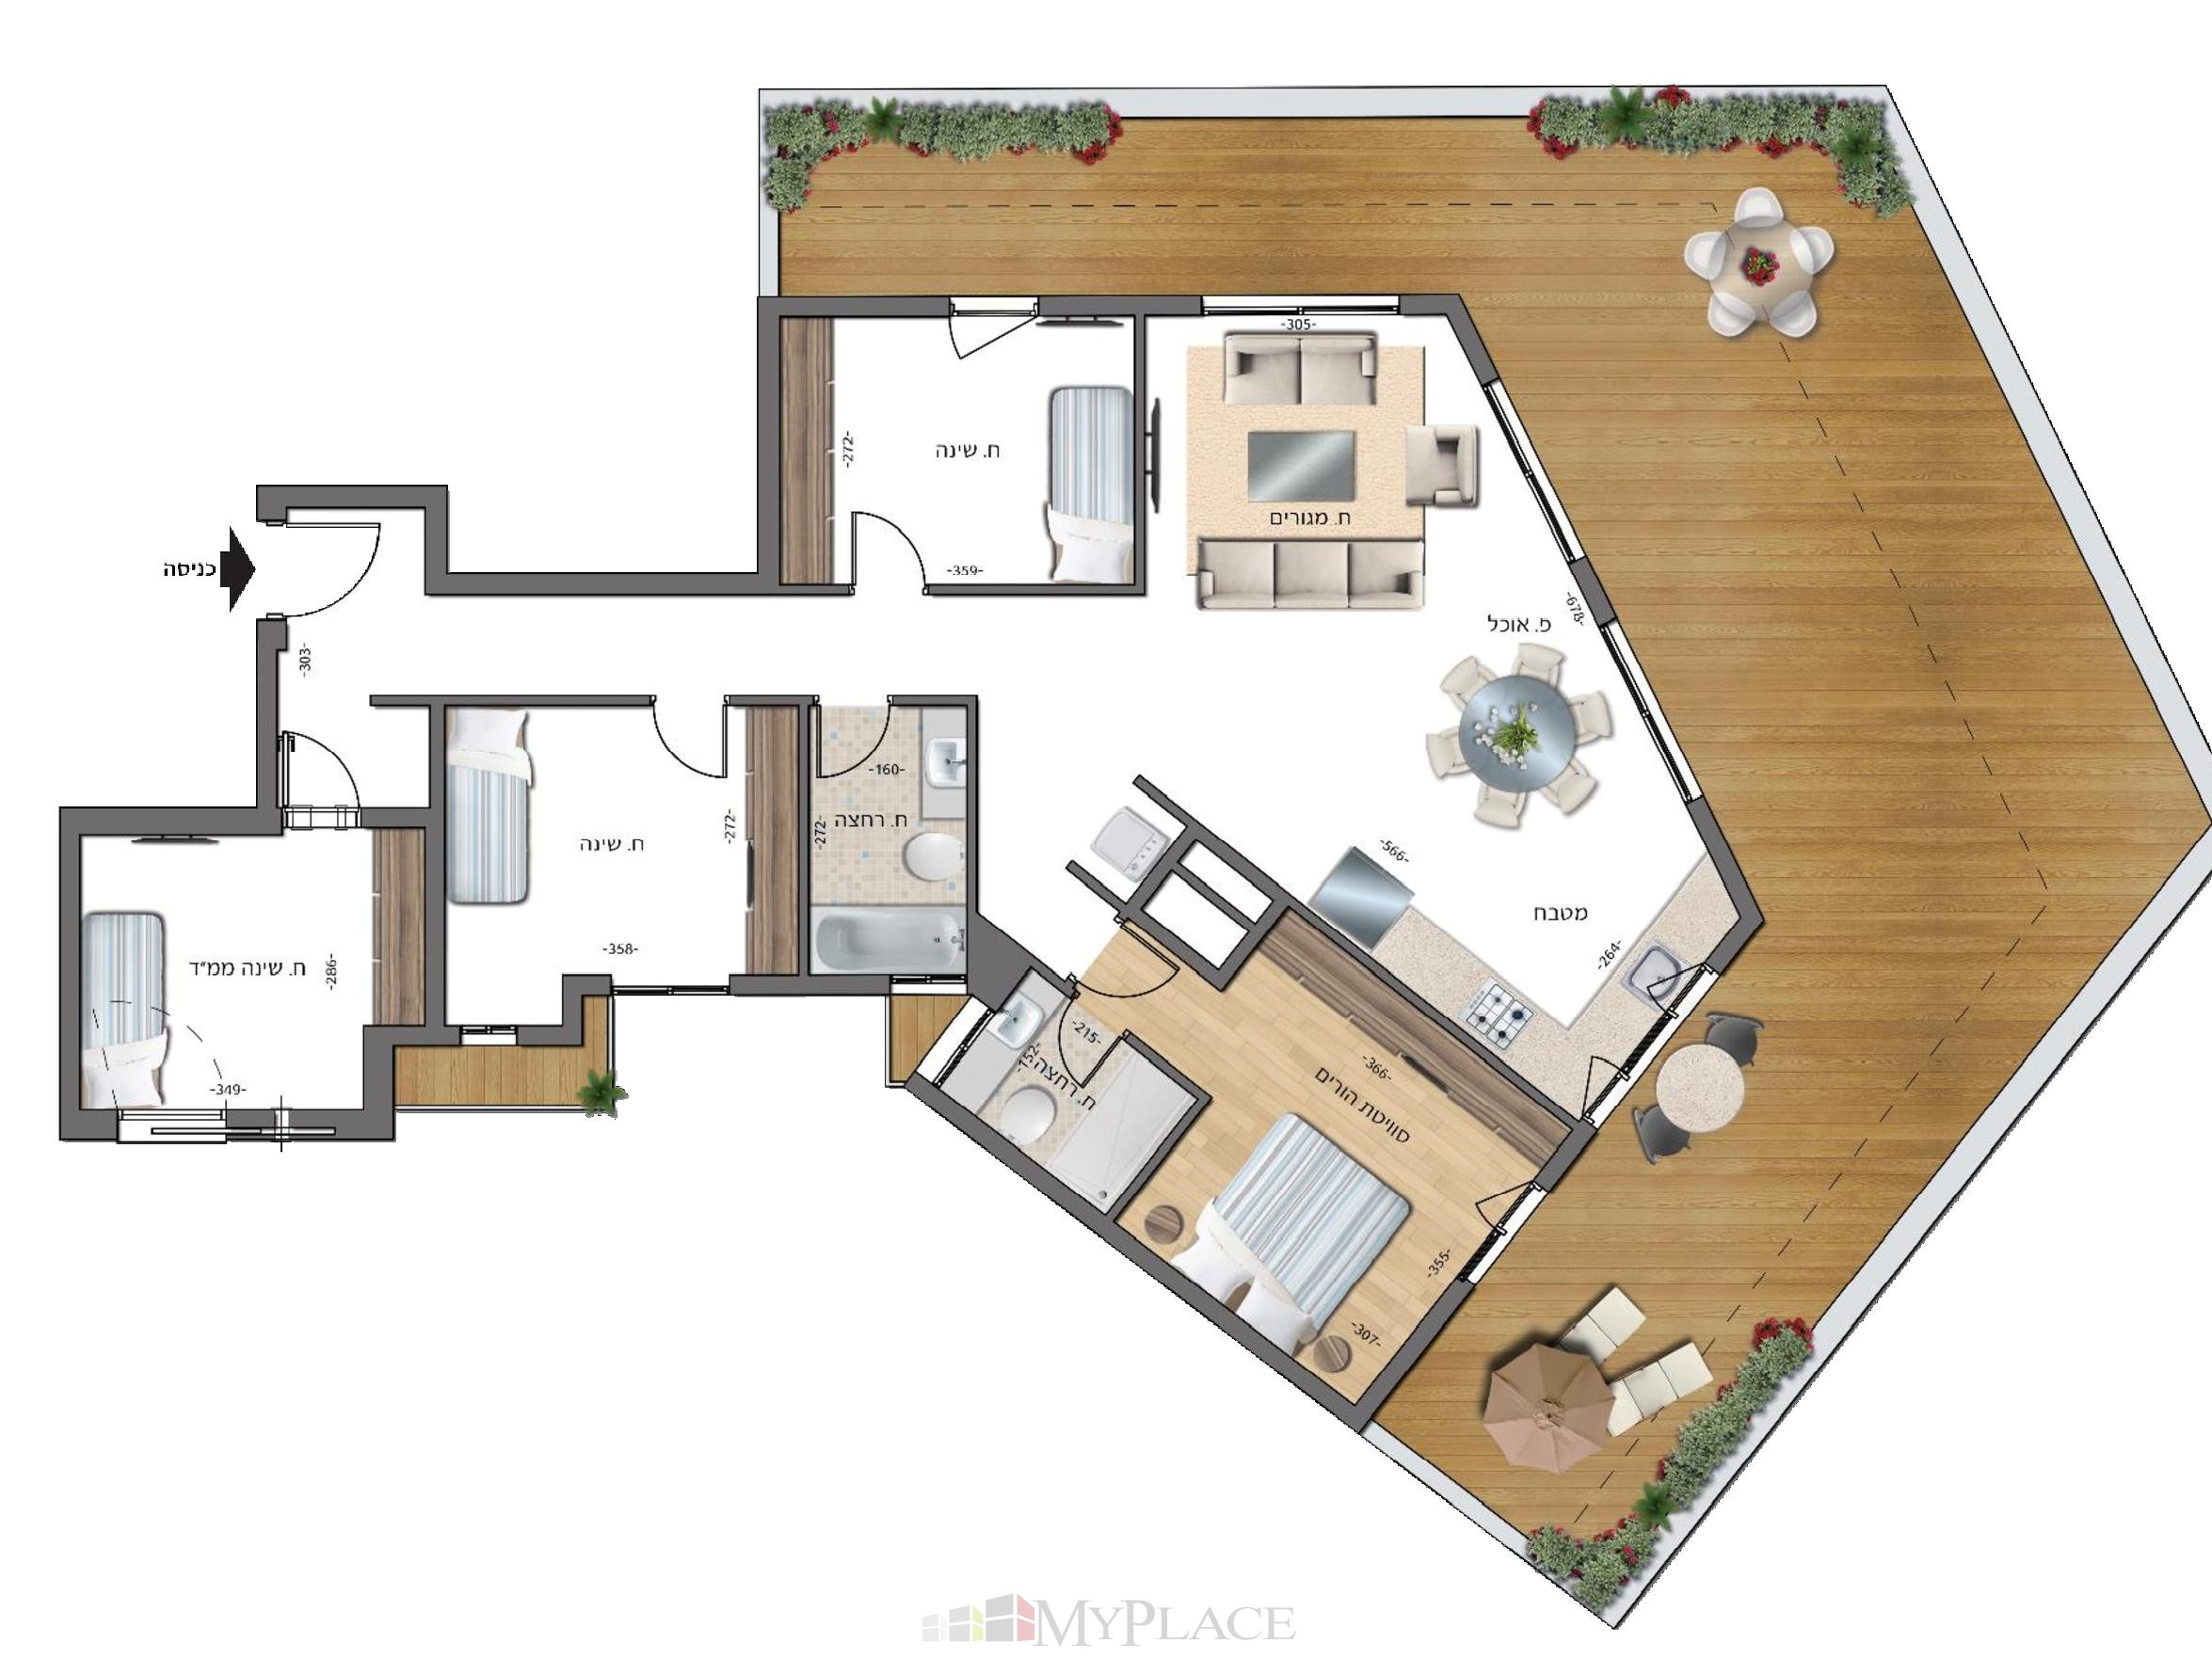door: (296, 512, 392, 627), (279, 720, 378, 798), (645, 714, 737, 791), (844, 504, 927, 580), (814, 713, 891, 795), (1056, 1009, 1114, 1093), (1121, 955, 1185, 1006)
wall: (58, 809, 80, 1143), (58, 809, 277, 833), (427, 709, 443, 1049), (256, 620, 279, 836), (729, 978, 892, 999), (363, 1026, 392, 1138), (368, 695, 655, 702), (364, 1026, 458, 1044), (516, 1025, 586, 1047), (359, 809, 432, 823)
window: (1203, 298, 1394, 314), (952, 298, 1039, 317)
